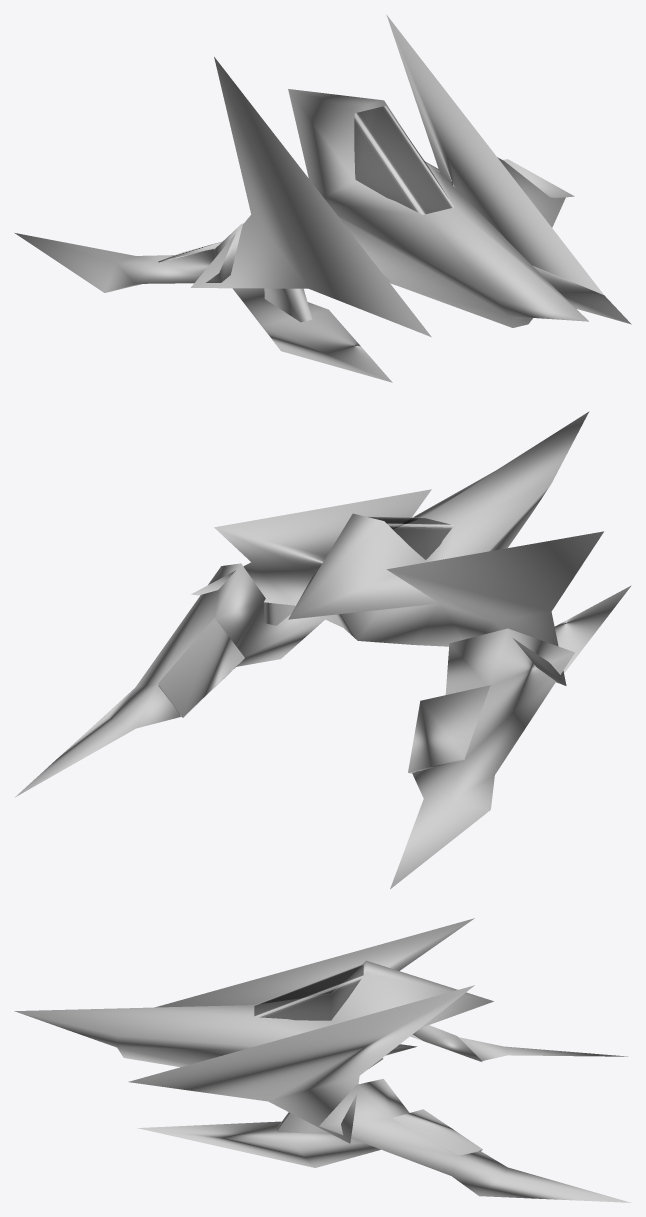
Rendered from arwingNew19.obj.
3 renders of one model, top to bottom at view 1: azimuth 30°, elevation 25°; view 2: azimuth 150°, elevation 25°; view 3: azimuth 270°, elevation 25°, orthographic. The views are drawn at different scales.
Parts seen in each view (by area): view 1: Arwing.002; view 2: Arwing.002; view 3: Arwing.002.
Boxes of the visible parts, <box> form: Arwing.002: <box>15,14,631,382</box>; Arwing.002: <box>15,411,631,889</box>; Arwing.002: <box>14,918,631,1202</box>.
Size of the model in its own units: 3.88 by 2.15 by 6.75.
